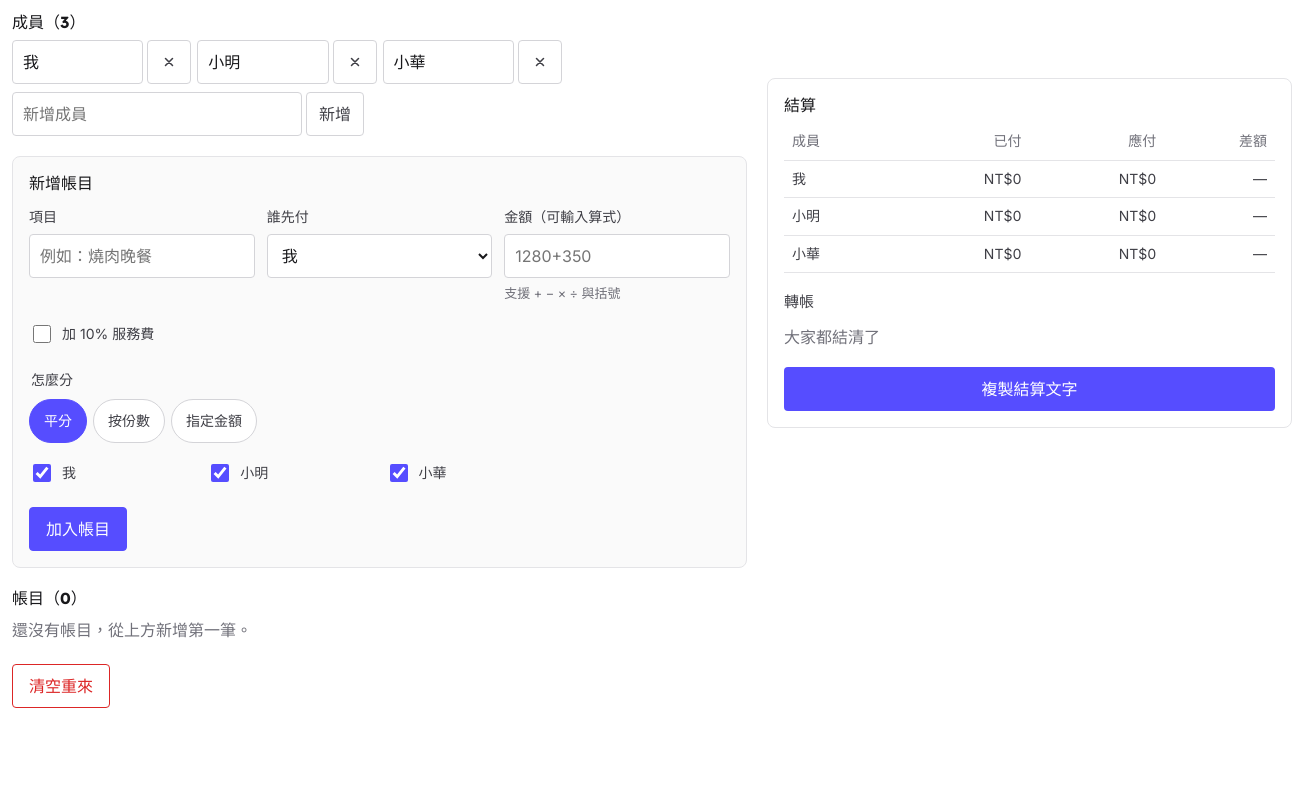
Scenario: SplitBillApp › splits by shares and includes the service charge (EC-02, EC-04)
Click the radio button named "split-mode" at (129, 421), box [93,399,165,443]
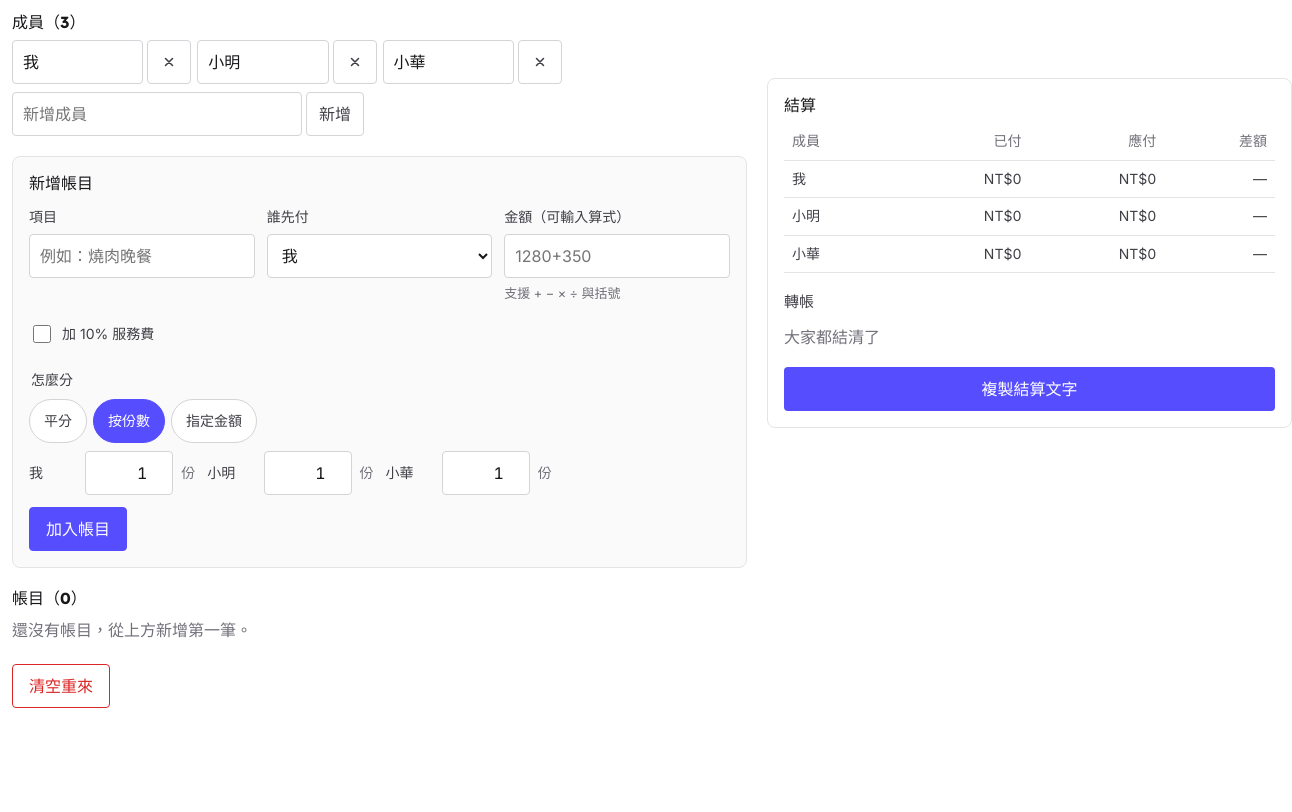
Replace the text in the number field with id "share-m-me" with "2" at (129, 473), box [85,451,173,495]
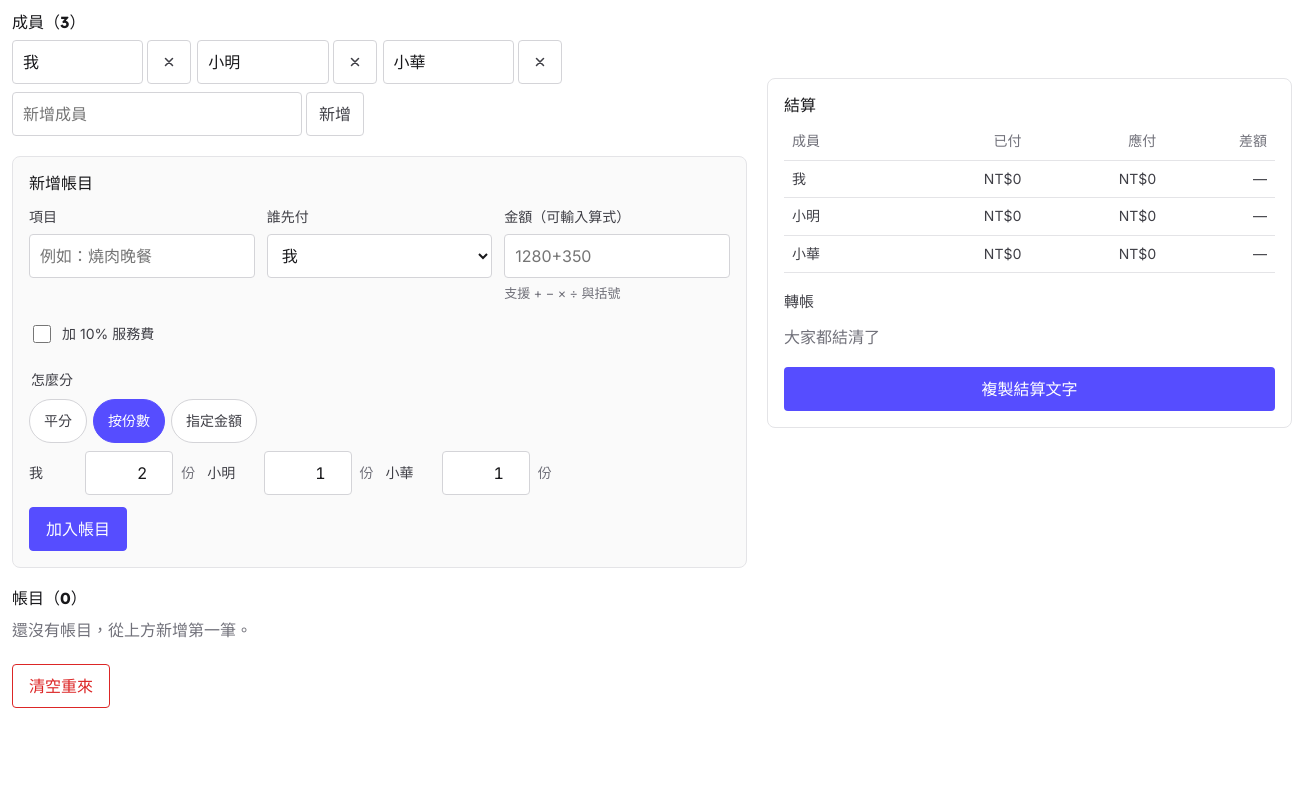
Click the checkbox labelled "加 10% 服務費" at (42, 334), box [33,325,51,343]
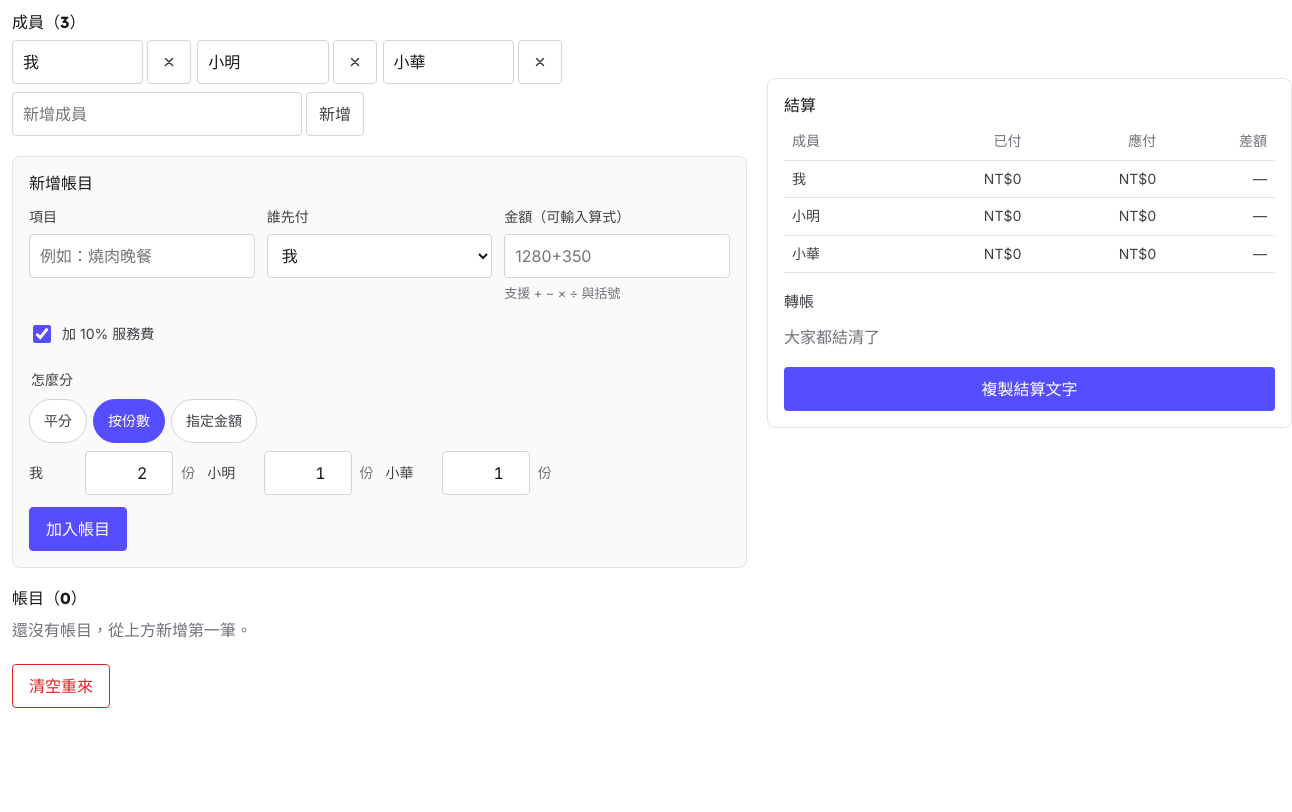
Type "燒肉" into the field with id "expense-title" at (142, 256), box [29,234,255,278]
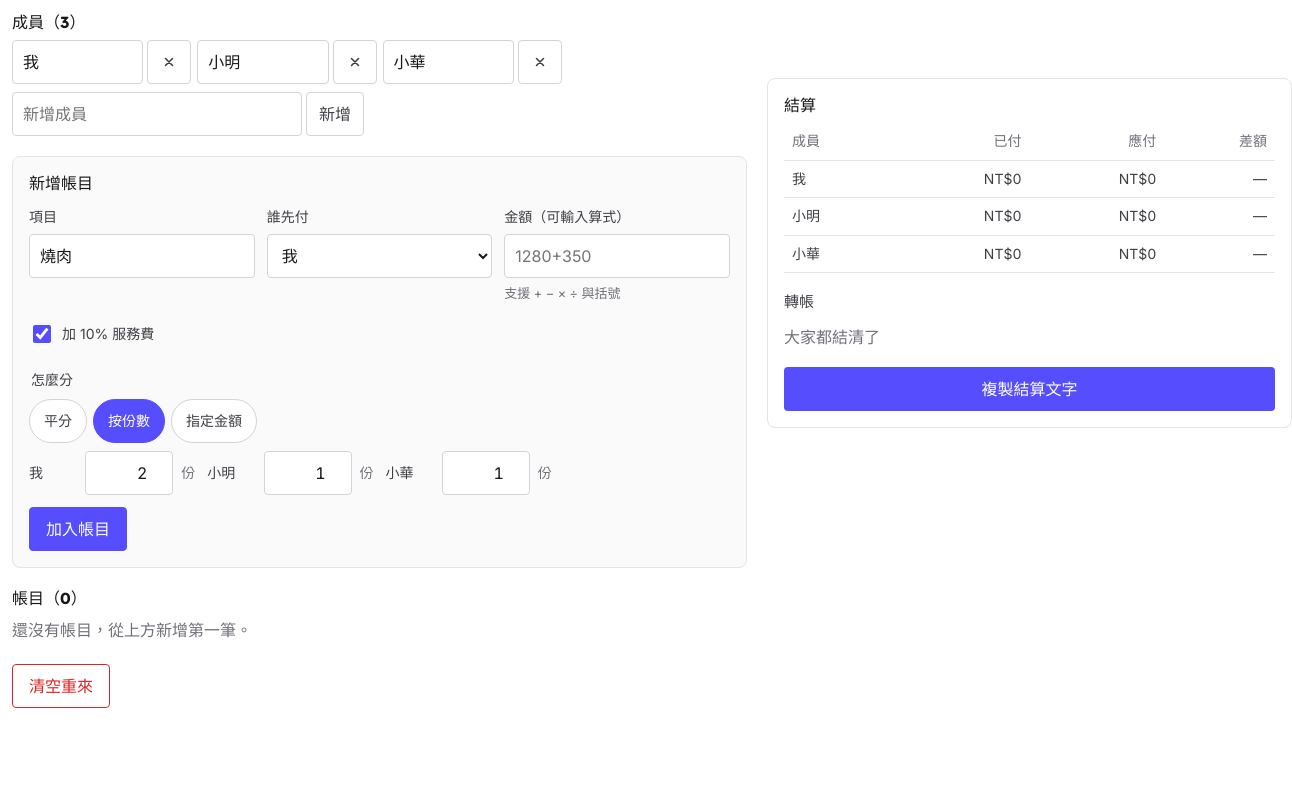
Type "1234" into the field with id "expense-amount" at (617, 256), box [504,234,730,278]
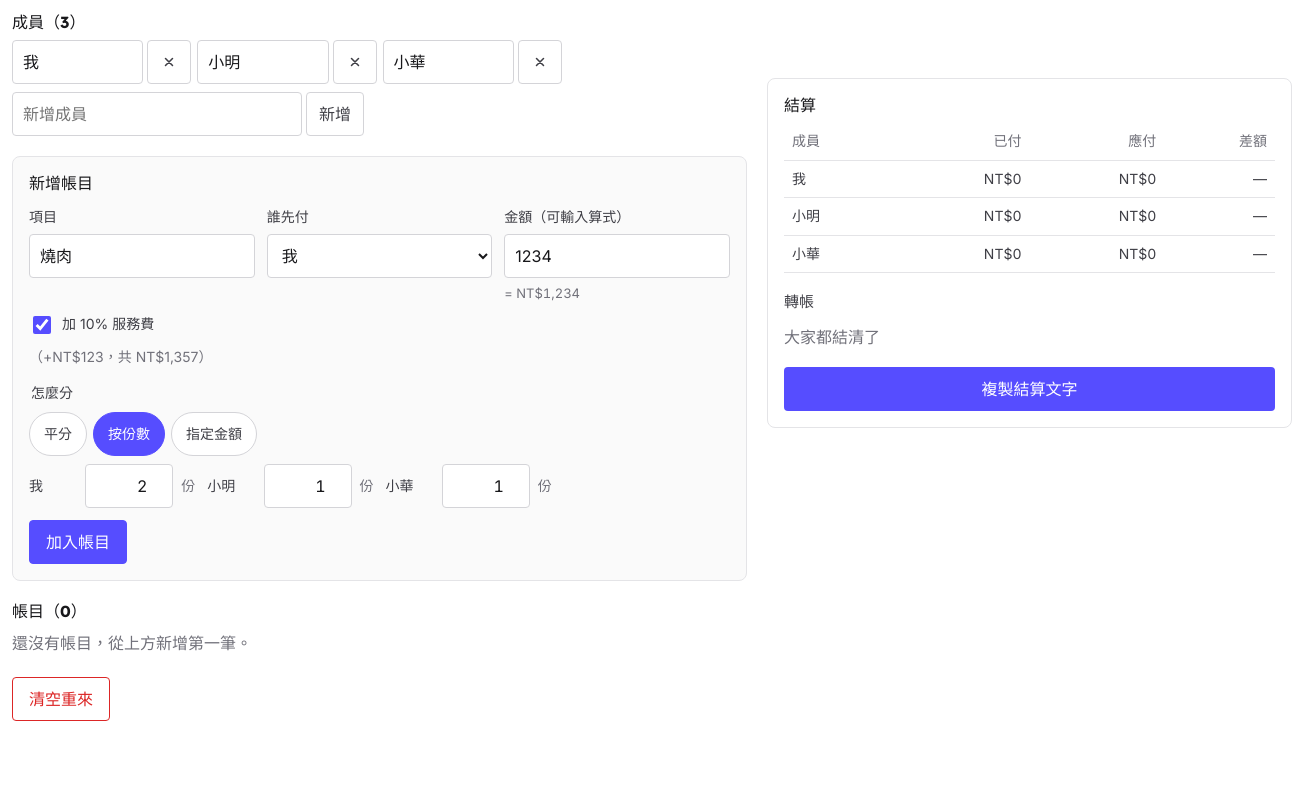
Submit the form with class "expense-form", box [12,156,747,581]
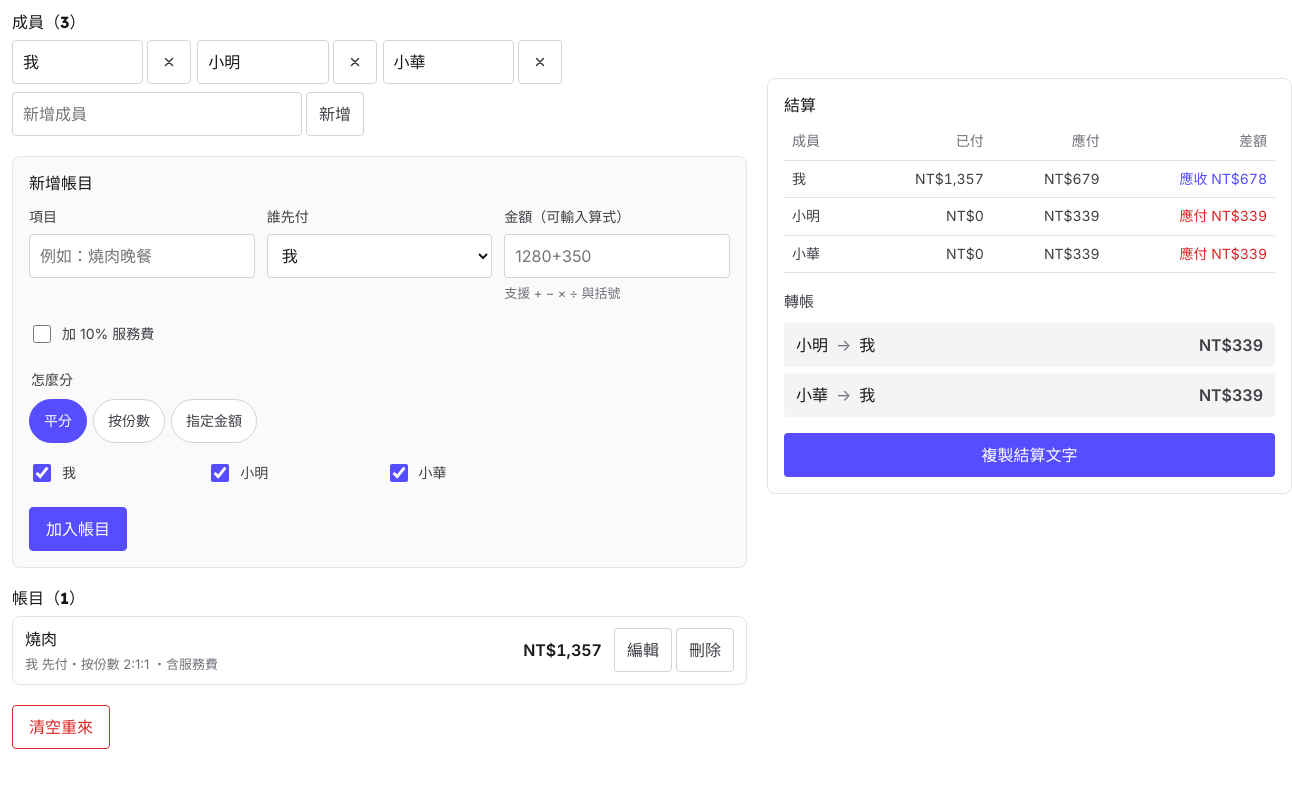
Expected: the element with class "expenses" shows "NT$1,357", [523,640,602,660]
